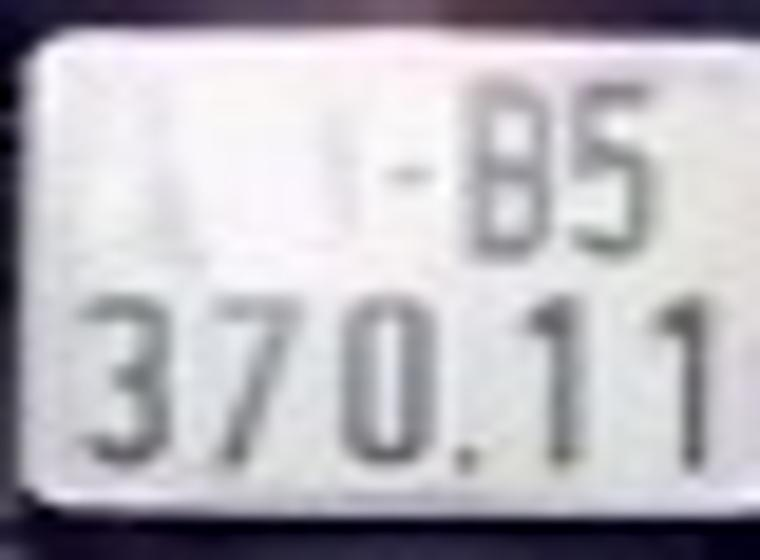0: (332, 285, 432, 462)
1: (650, 289, 721, 479), (526, 290, 590, 468)
3: (63, 290, 180, 466)
5: (568, 70, 661, 268)
7: (196, 282, 301, 471)
B: (462, 72, 555, 263)
